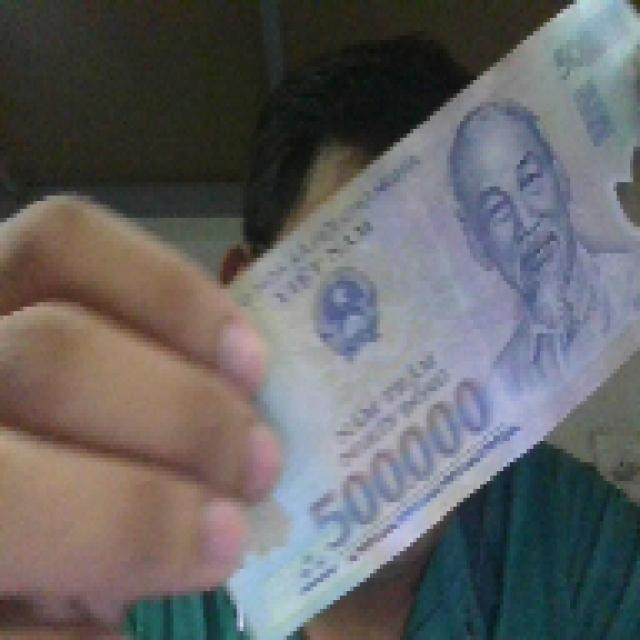500 000 VND: (213, 0, 637, 636)
